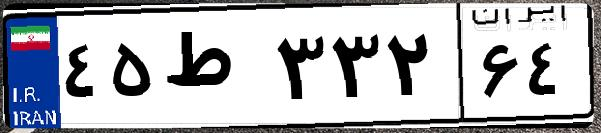2: (385, 28, 445, 110)
3: (270, 28, 330, 110), (330, 28, 385, 110)
4: (57, 26, 110, 100), (525, 38, 570, 115)
5: (110, 28, 158, 98)
6: (475, 38, 525, 113)
ط: (158, 20, 270, 120)
